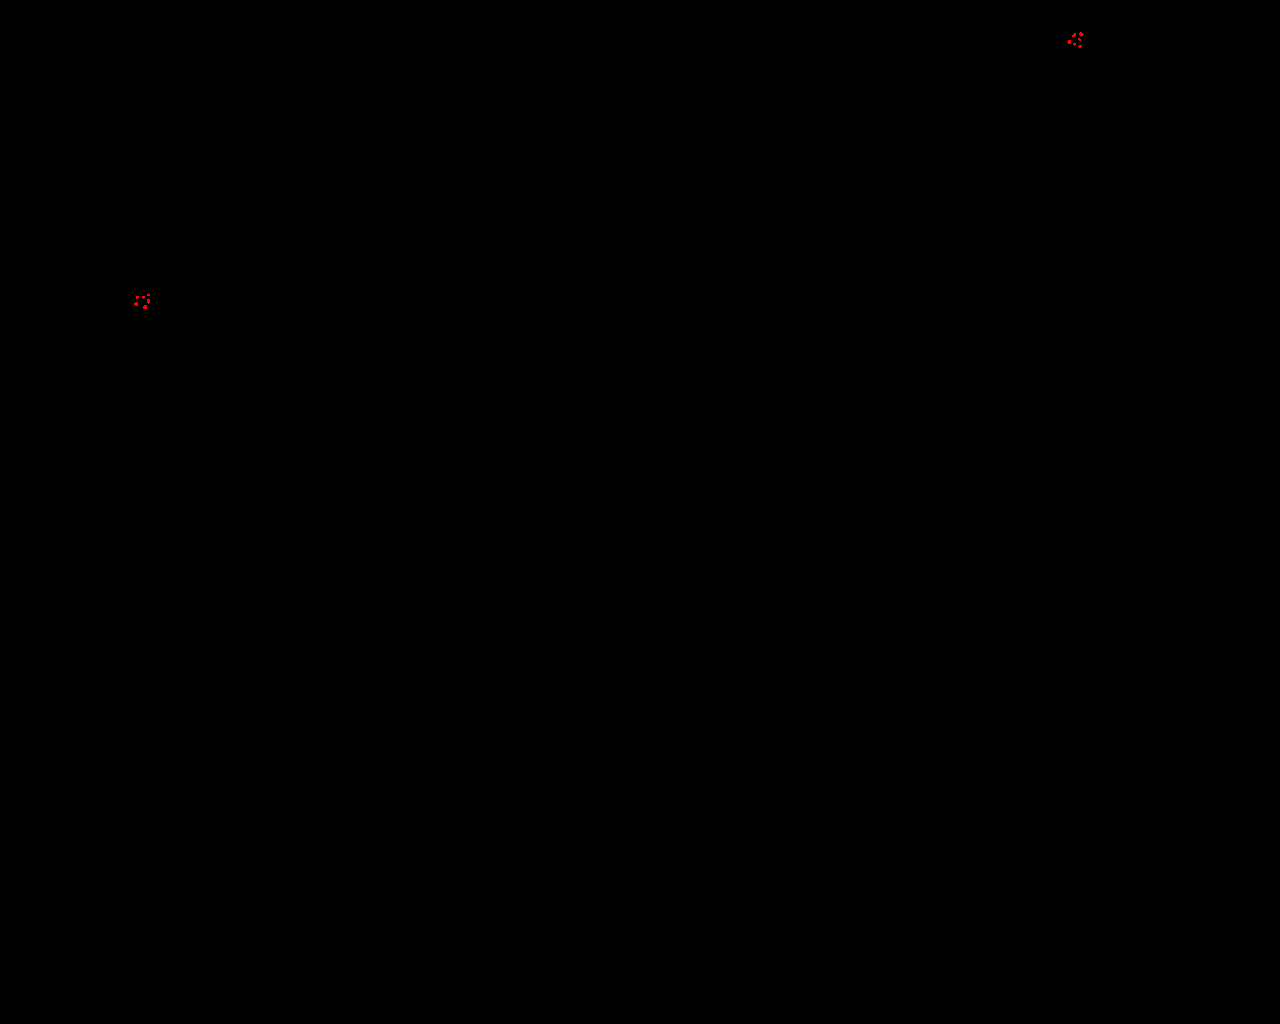Target: (1079, 32, 1084, 37), (1067, 40, 1071, 44), (134, 302, 138, 306), (143, 305, 147, 309), (147, 299, 150, 304), (1072, 33, 1076, 37), (1078, 45, 1083, 48), (1078, 38, 1081, 41), (1073, 43, 1076, 46), (136, 296, 139, 299), (142, 296, 145, 299), (147, 294, 150, 296)
